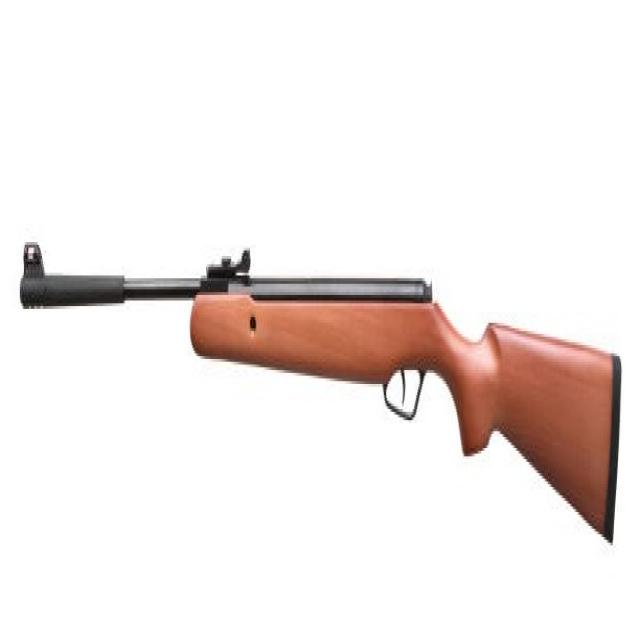rifle: (19, 188, 629, 582)
